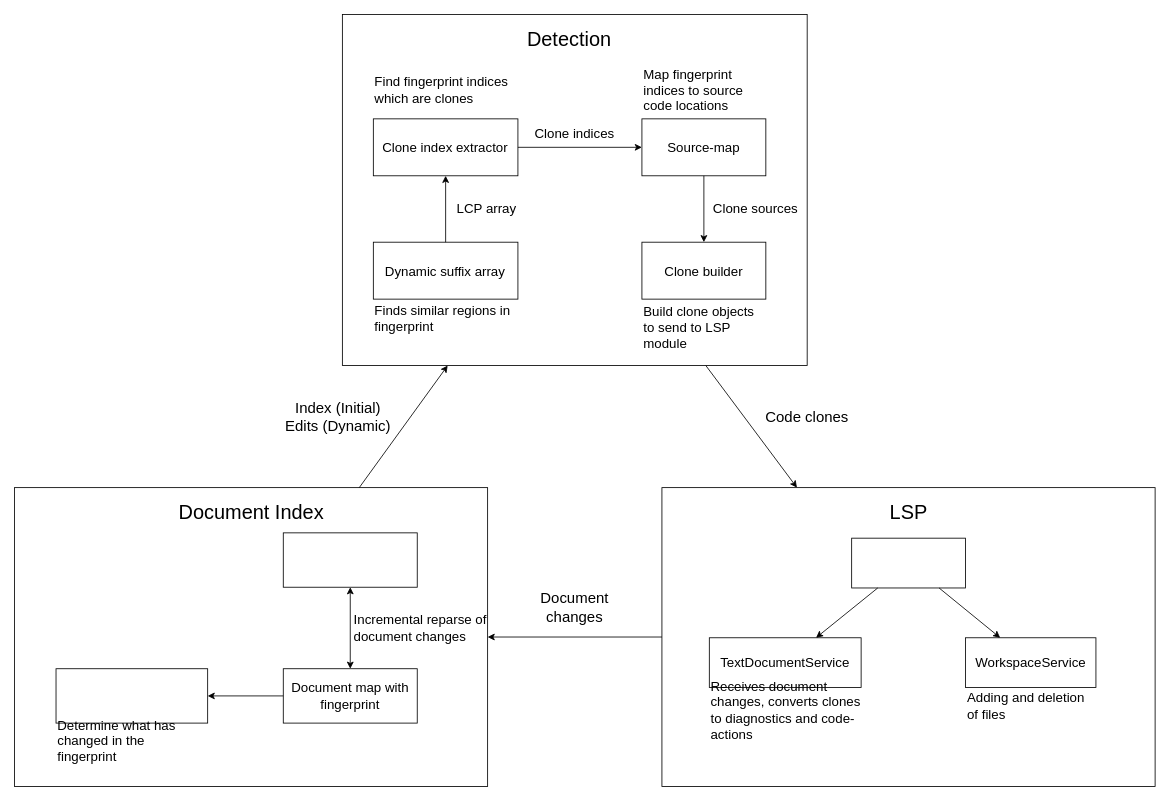
Image size: 1170x801. Some labels were removed from this diagram. The box of each missing label's shape, as (x1, y1, x2, y2) in pixels:
Edit operation calculator: (55, 668, 208, 723)
Incremental parser: (282, 532, 417, 587)
LspServer: (851, 537, 965, 588)
